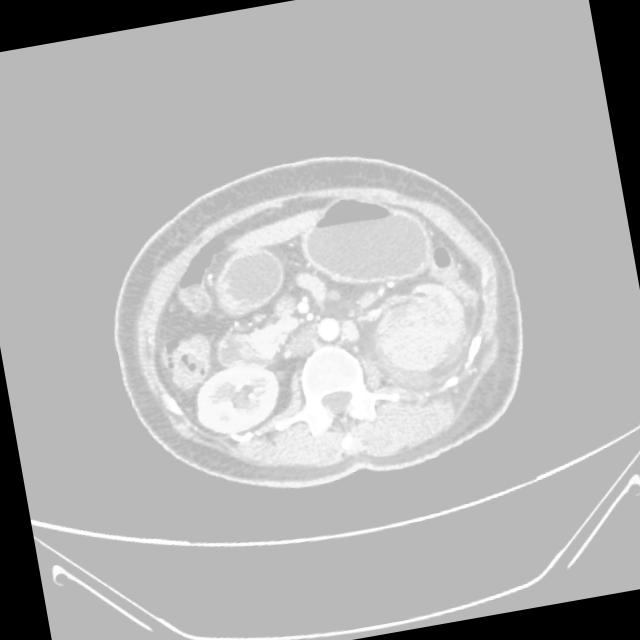TUMOR: (99, 159, 468, 413)
